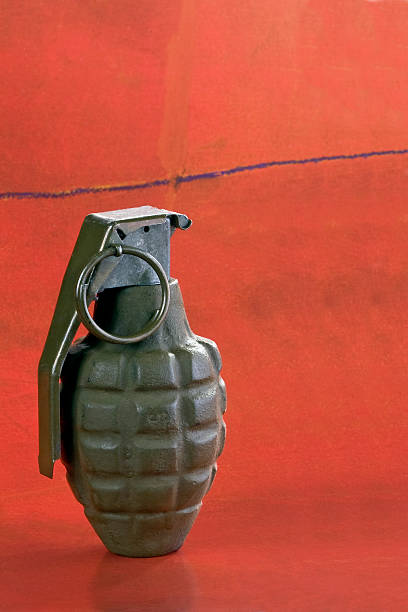e1: (35, 206, 230, 560)
